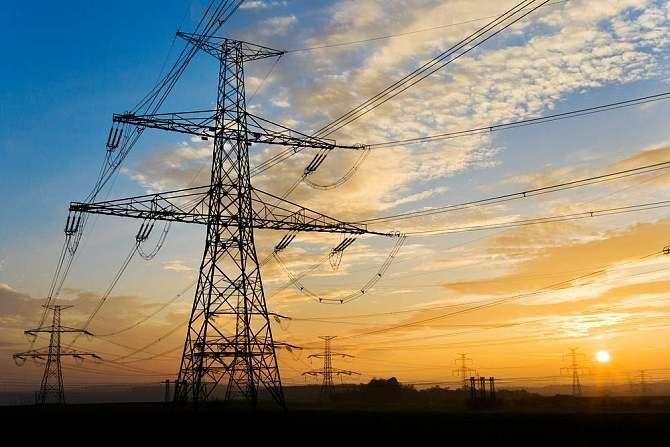power_tower: (66, 26, 369, 395), (14, 302, 105, 407), (296, 331, 359, 390), (560, 343, 596, 396), (449, 351, 485, 391)
